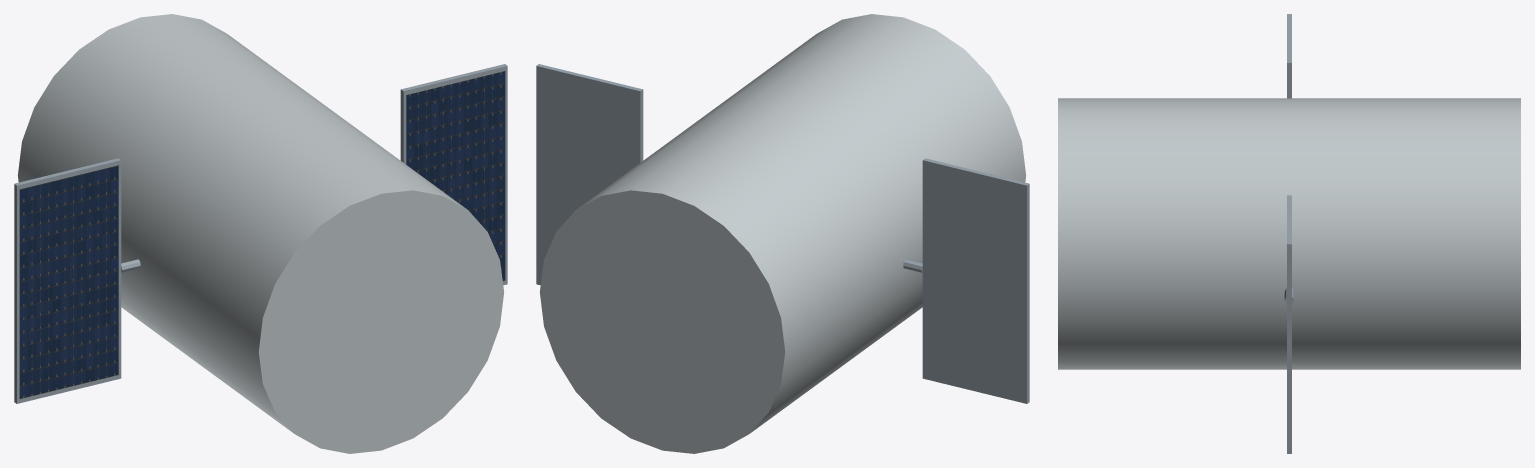
Rendered from ref-smex-22012.glb.
3 views of the same model, side by side, from view 1: azimuth 30°, elevation 25°; view 2: azimuth 150°, elevation 25°; view 3: azimuth 270°, elevation 25° (orthographic). The views are drawn at different scales.
Visible parts, largest first — view 1: Spacecraft body, Photovoltaic laminates (×2), Array frame (×2); view 2: Spacecraft body, Array frame (×2); view 3: Spacecraft body, Array frame.
Boxes of the visible parts, x1,y1,x2,y2 form: Spacecraft body: (17,14,504,453); Photovoltaic laminates (×2): (19,71,505,398); Array frame (×2): (14,64,507,403); Spacecraft body: (539,14,1026,453); Array frame (×2): (536,64,1029,403); Spacecraft body: (1058,98,1520,369); Array frame: (1287,195,1291,453).
Size of the model in its own units: 2 by 1 by 1.7.
Materials: 3 (1 with a texture image).
